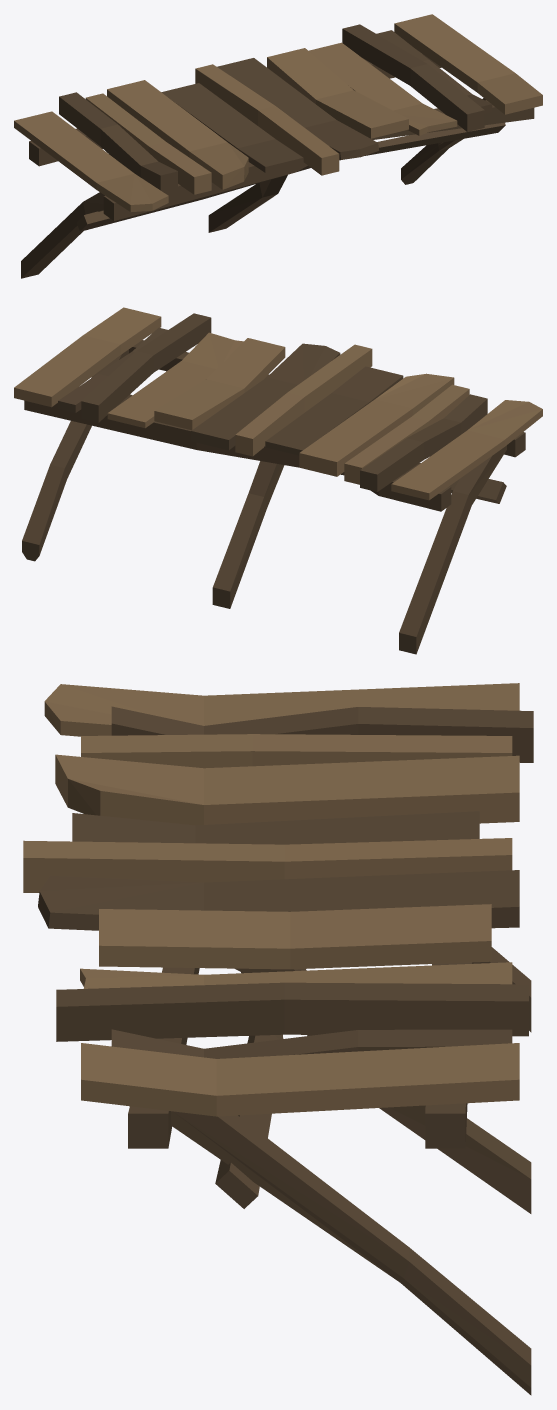
The model's file is SM_Prop_Window_Top_02.glb.
3 views of the same model, one above another, from view 1: azimuth 30°, elevation 25°; view 2: azimuth 150°, elevation 25°; view 3: azimuth 270°, elevation 25° (orthographic). The views are drawn at different scales.
Visible parts, largest first — view 1: SM_Prop_Window_Top_02_part00; view 2: SM_Prop_Window_Top_02_part00; view 3: SM_Prop_Window_Top_02_part00.
Part boxes in pixels (x1,y1,x2,y2): SM_Prop_Window_Top_02_part00: (14, 14, 542, 278); SM_Prop_Window_Top_02_part00: (14, 307, 542, 654); SM_Prop_Window_Top_02_part00: (23, 683, 533, 1395).
Size of the model in its own units: 3.22 by 1.27 by 1.68.
Materials: 1 (1 with a texture image).
